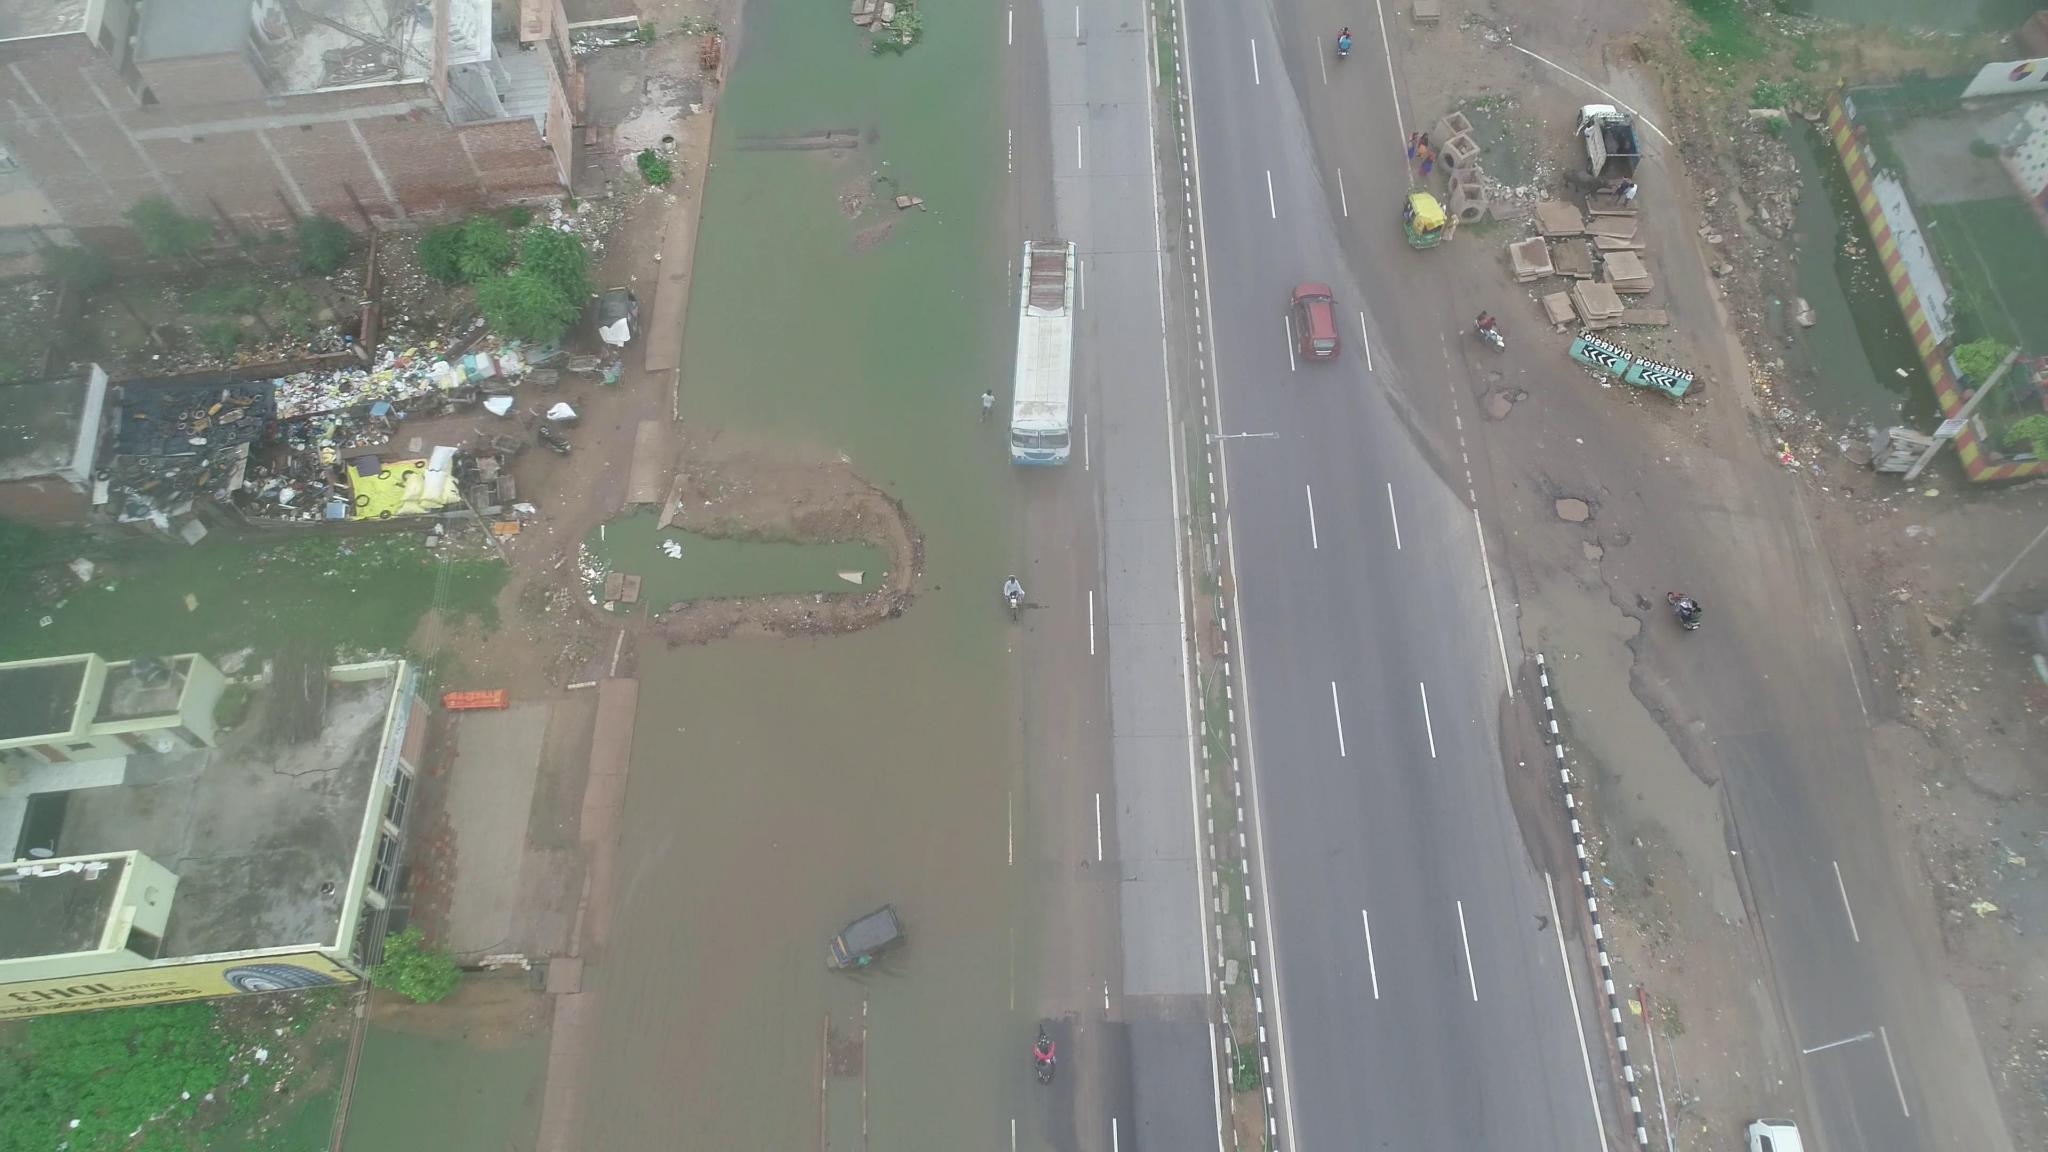Potholes: (1509, 454, 1644, 577), (1466, 353, 1551, 439)
Waterlogging: (592, 610, 1065, 1141), (703, 20, 1025, 415)
